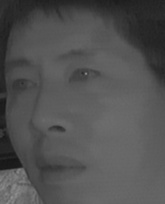eye: (64, 65, 104, 88), (8, 76, 38, 94)
mouth: (35, 148, 90, 186)
